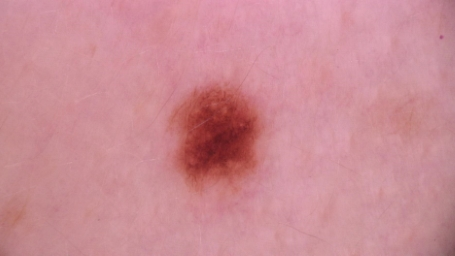nevus: (174, 85, 254, 185)
